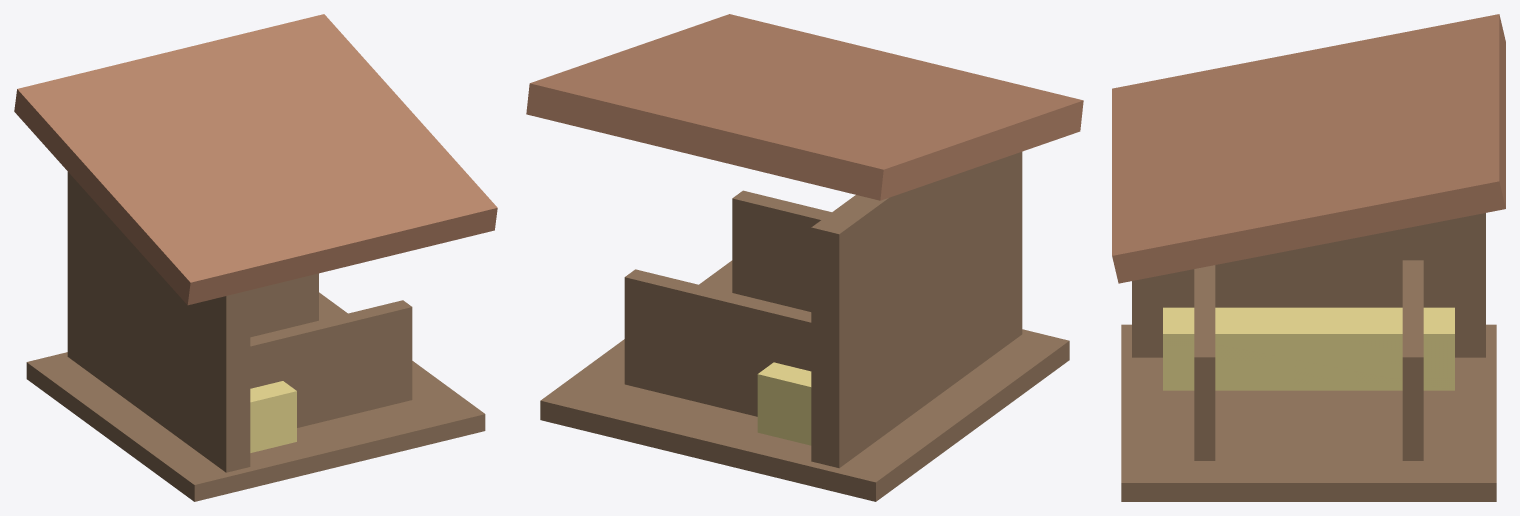
The model's file is stable.glb.
3 renders of one model, left to right at view 1: azimuth 30°, elevation 25°; view 2: azimuth 150°, elevation 25°; view 3: azimuth 270°, elevation 25°, orthographic. The views are drawn at different scales.
Visible parts, largest first — view 1: Cube.005, Cube.001, Cube, Cube.002, Cube.003, Cube.004; view 2: Cube.005, Cube.001, Cube, Cube.003, Cube.002, Cube.004; view 3: Cube.005, Cube, Cube.001, Cube.004, Cube.003, Cube.002.
Boxes of the visible parts, left/top/right/bottom form: Cube.005: left=14, top=14, right=497, bottom=305; Cube.001: left=67, top=172, right=250, bottom=472; Cube: left=26, top=292, right=485, bottom=501; Cube.002: left=250, top=300, right=412, bottom=427; Cube.003: left=250, top=273, right=318, bottom=337; Cube.004: left=250, top=381, right=296, bottom=452; Cube.005: left=526, top=14, right=1083, bottom=200; Cube.001: left=811, top=152, right=1022, bottom=468; Cube: left=540, top=260, right=1069, bottom=501; Cube.003: left=624, top=269, right=811, bottom=416; Cube.002: left=732, top=190, right=831, bottom=311; Cube.004: left=757, top=362, right=811, bottom=445; Cube.005: left=1112, top=14, right=1505, bottom=283; Cube: left=1121, top=324, right=1496, bottom=501; Cube.001: left=1132, top=213, right=1485, bottom=357; Cube.004: left=1163, top=307, right=1454, bottom=390; Cube.003: left=1402, top=260, right=1423, bottom=460; Cube.002: left=1194, top=265, right=1215, bottom=460.
Size of the model in its own units: 3.8 by 3.44 by 3.78.
